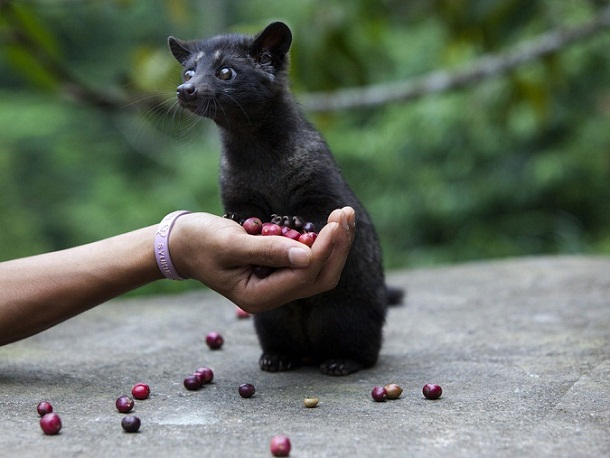Civet: (147, 9, 356, 196)
